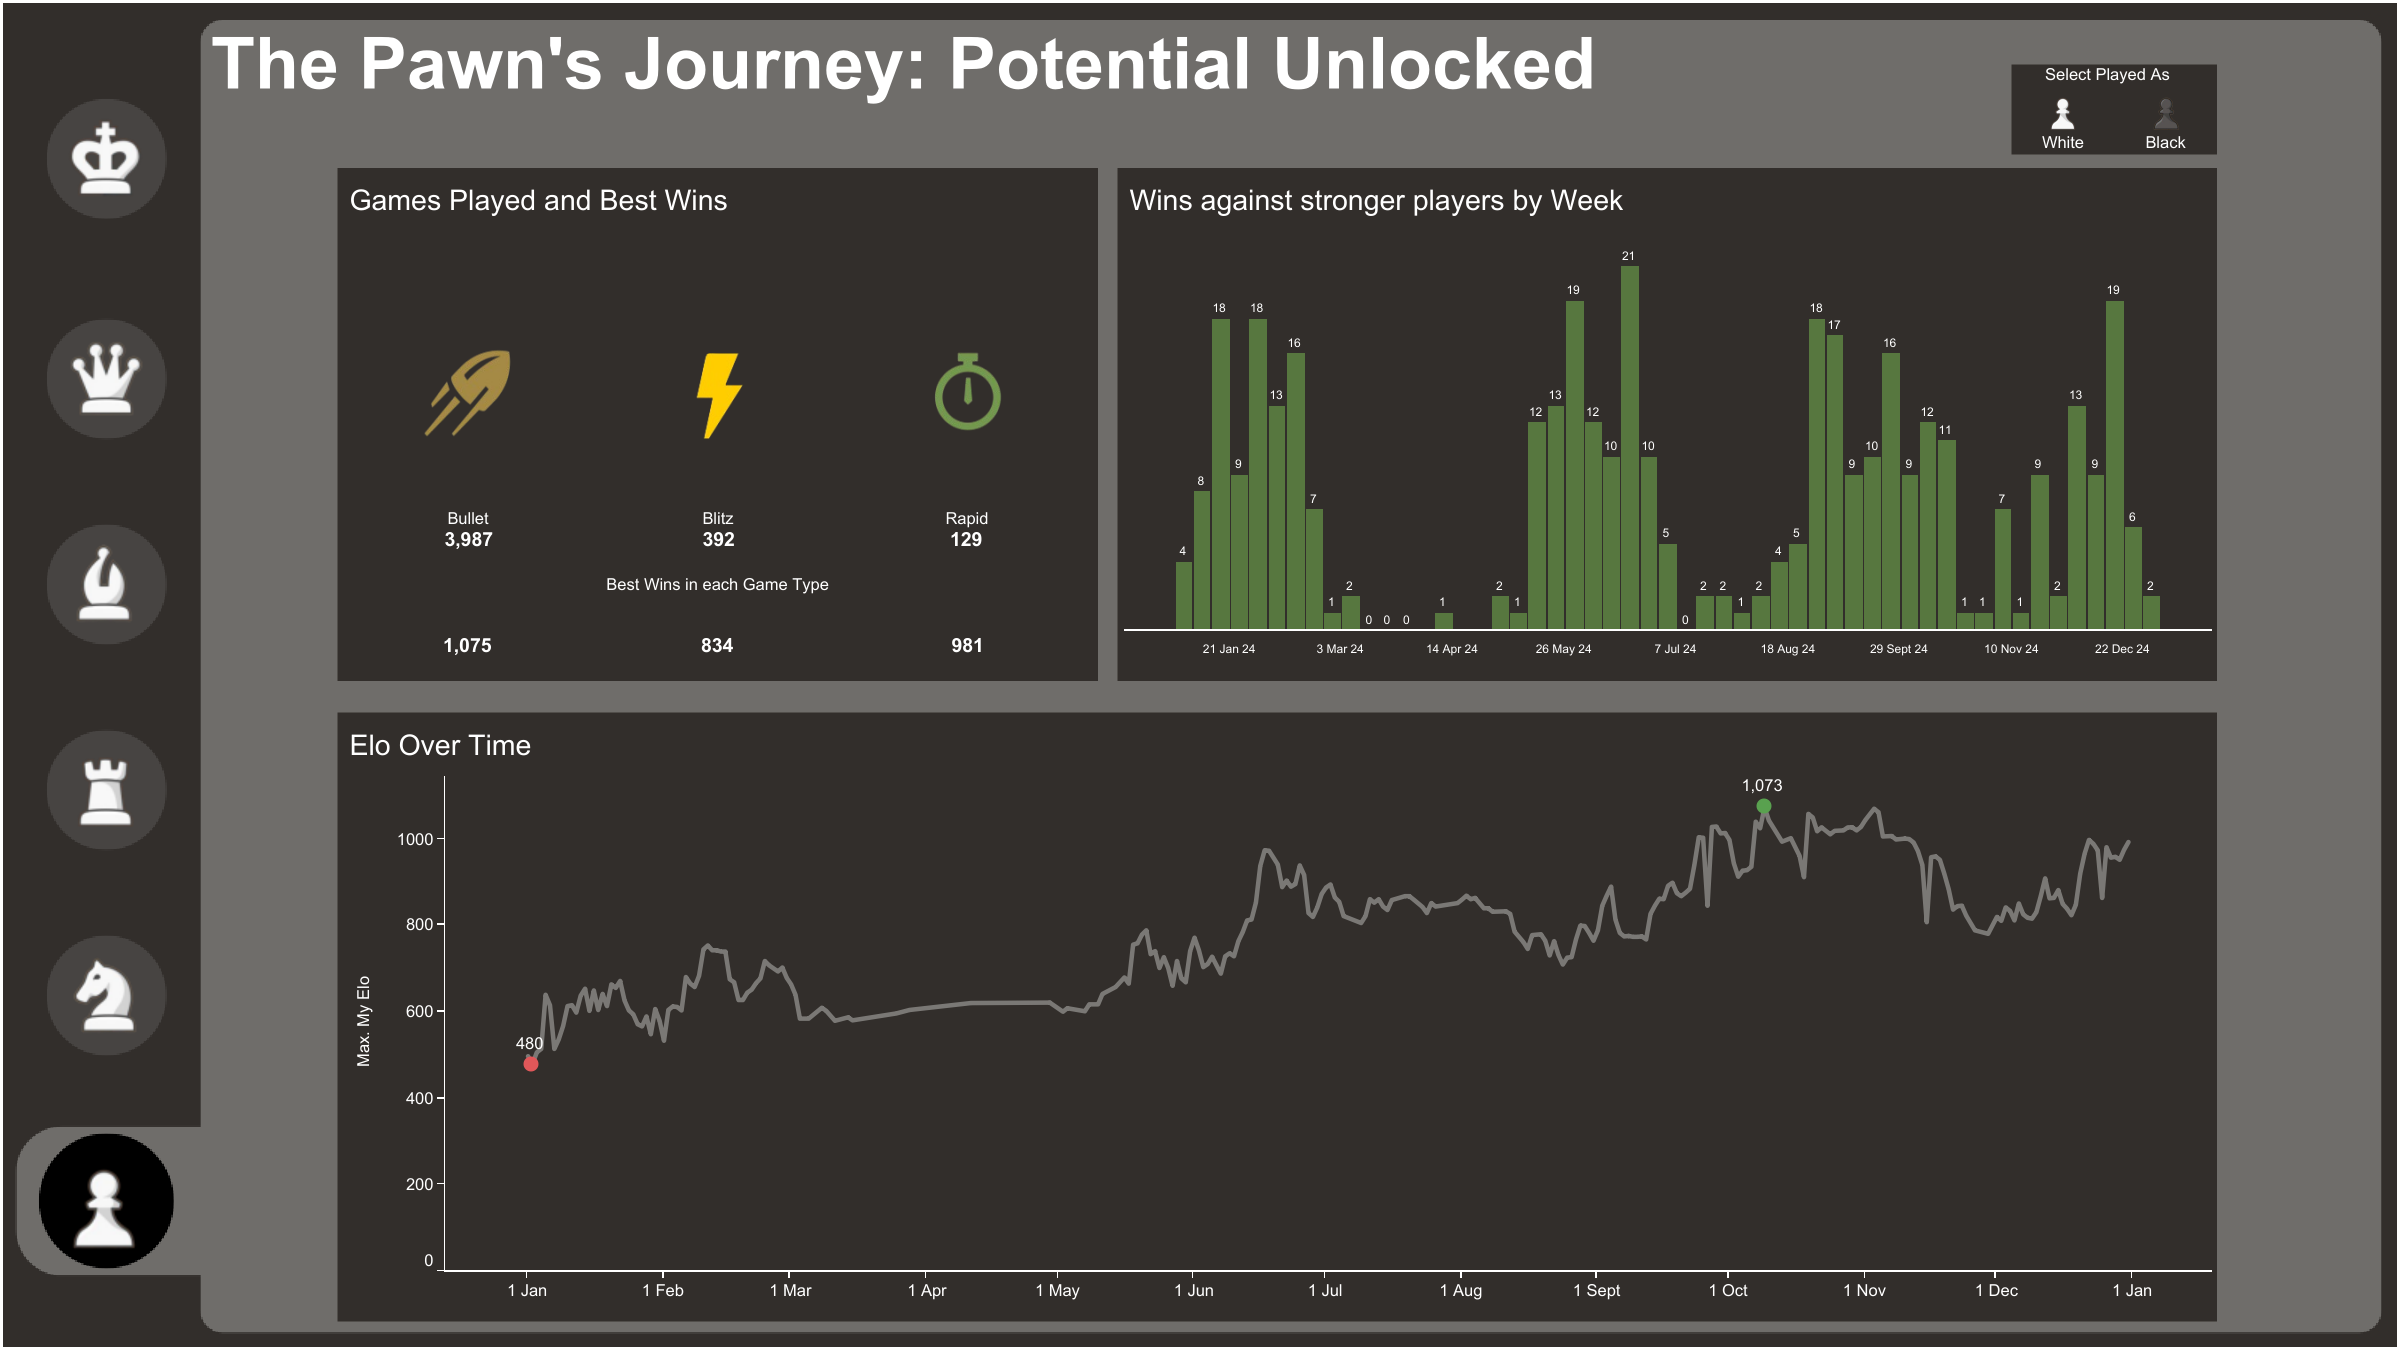

What the dashboard file says about the page in this screenshot:
{"tool":"tableau","page":{"name":"Pawn","canvas":[1600,900],"ordinal":4},"visuals":[{"type":"image","param":"Image/Nav - 1 (6).png","box":[2,2,1596,896]},{"type":"text","box":[138,8,969,68]},{"type":"text","box":[1355,34,100,30]},{"type":"worksheet","title":"Played As Filter - Pawn","mark":"Shape","cols":["Played_as"],"box":[1341,43,137,60]},{"type":"dashboard-object","box":[41,76,60,60]},{"type":"worksheet","title":"Games Played","mark":"Shape","cols":["Game_Type"],"box":[225,112,507,261]},{"type":"worksheet","title":"Wins against stronger player","mark":"Bar","rows":["Calculation_5530631486725865519"],"cols":["Date & Time"],"box":[745,112,733,342]},{"type":"dashboard-object","box":[41,222,60,60]},{"type":"dashboard-object","box":[41,359,60,60]},{"type":"text","box":[225,373,507,32]},{"type":"worksheet","title":"Best Wins","mark":"Text","cols":["Game_Type"],"box":[225,405,507,49]},{"type":"image","param":"Image/Pawn Text.png","box":[1104,410,420,414]},{"type":"worksheet","title":"Elo over time","mark":"Automatic","rows":["My_Elo"],"cols":["Date & Time"],"box":[225,475,1253,406]},{"type":"dashboard-object","box":[41,496,60,60]},{"type":"dashboard-object","box":[41,633,60,60]},{"type":"image","param":"Image/Pawn_W.png","box":[33,763,75,75]},{"type":"dashboard-object","box":[1506,800,79,86]}]}

Visuals, with their boxes in screenshot pixels (x1, y1, x2, y2), scaled from the page's 1600x900 canvas onto the 2399x1349 screenshot:
image: (left=3, top=3, right=2396, bottom=1346)
text: (left=207, top=12, right=1660, bottom=114)
text: (left=2032, top=51, right=2182, bottom=96)
"Played As Filter - Pawn" worksheet (Shape marks): (left=2011, top=64, right=2216, bottom=154)
dashboard-object: (left=61, top=114, right=151, bottom=204)
"Games Played" worksheet (Shape marks): (left=337, top=168, right=1098, bottom=559)
"Wins against stronger player" worksheet (Bar marks): (left=1117, top=168, right=2216, bottom=680)
dashboard-object: (left=61, top=333, right=151, bottom=423)
dashboard-object: (left=61, top=538, right=151, bottom=628)
text: (left=337, top=559, right=1098, bottom=607)
"Best Wins" worksheet (Text marks): (left=337, top=607, right=1098, bottom=680)
image: (left=1655, top=615, right=2285, bottom=1235)
"Elo over time" worksheet: (left=337, top=712, right=2216, bottom=1321)
dashboard-object: (left=61, top=743, right=151, bottom=833)
dashboard-object: (left=61, top=949, right=151, bottom=1039)
image: (left=49, top=1144, right=162, bottom=1256)
dashboard-object: (left=2258, top=1199, right=2377, bottom=1328)
